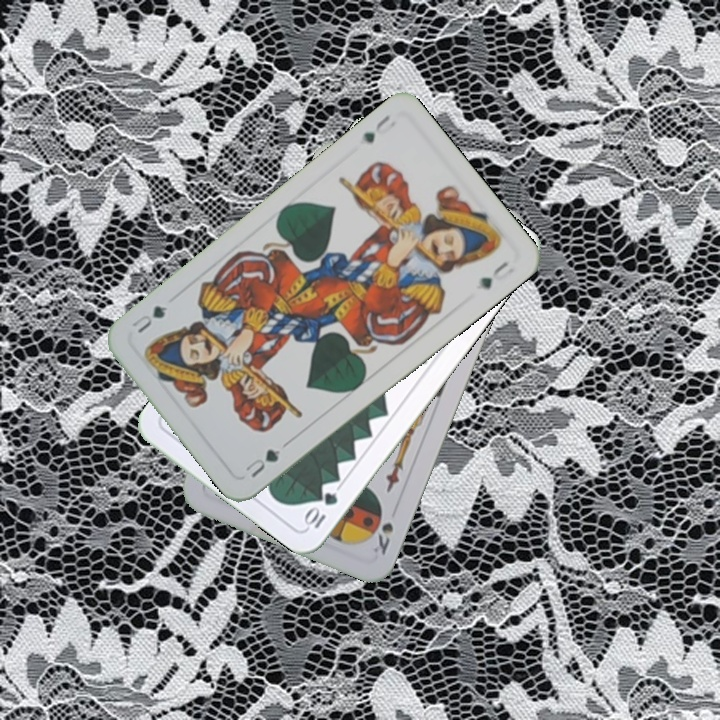G10: (300, 488, 341, 532)
GU: (241, 438, 291, 481), (357, 111, 399, 146)
SK: (368, 507, 396, 558)
